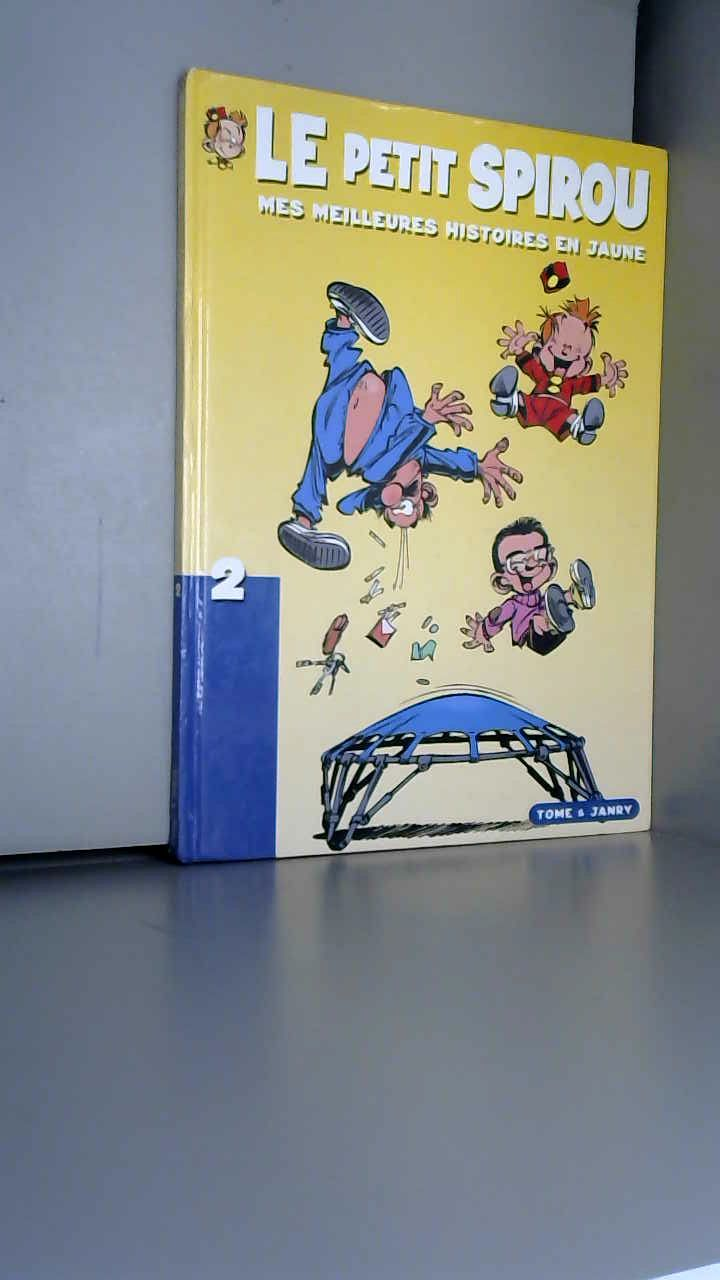book: (140, 40, 718, 912)
